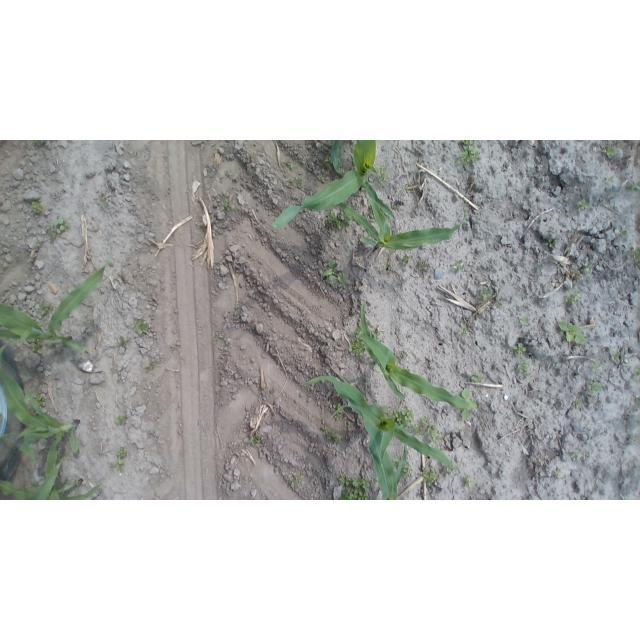Maize: (301, 374, 462, 499), (356, 300, 479, 416), (0, 338, 84, 500), (272, 141, 400, 238), (1, 252, 112, 356), (337, 196, 468, 252), (0, 471, 106, 500), (367, 436, 405, 498), (332, 141, 345, 172)
Weeds: (336, 476, 373, 501), (385, 407, 416, 431), (456, 387, 476, 420), (559, 320, 586, 344), (458, 141, 482, 168), (46, 216, 70, 241), (323, 260, 346, 285), (328, 210, 354, 230), (349, 327, 366, 357), (109, 446, 128, 472), (321, 427, 343, 446), (421, 468, 439, 487), (28, 199, 48, 216), (425, 425, 443, 443), (585, 378, 603, 396), (134, 317, 151, 335), (246, 431, 264, 447), (564, 290, 582, 306), (332, 402, 345, 421), (378, 165, 390, 185), (516, 359, 530, 376), (480, 286, 494, 302), (291, 473, 306, 487), (29, 341, 44, 355), (603, 145, 617, 159), (39, 300, 53, 314), (113, 414, 129, 426), (288, 175, 305, 186), (220, 198, 233, 212), (470, 372, 485, 384), (401, 462, 412, 478), (513, 342, 526, 355), (577, 199, 590, 211), (452, 260, 465, 272), (118, 336, 131, 348), (463, 475, 474, 489), (630, 246, 638, 264), (34, 394, 45, 407), (552, 466, 562, 480), (627, 181, 639, 192), (612, 350, 624, 361), (460, 326, 471, 338), (144, 361, 157, 371), (170, 343, 181, 354), (546, 239, 557, 250), (421, 416, 432, 427), (60, 451, 71, 462), (519, 315, 530, 326), (572, 399, 583, 410), (29, 140, 48, 146), (285, 161, 296, 171), (445, 463, 455, 474), (374, 330, 383, 342), (216, 333, 228, 342), (591, 363, 601, 373), (572, 274, 583, 283), (571, 450, 580, 461), (582, 263, 591, 274), (605, 176, 616, 185), (402, 255, 411, 265), (98, 196, 107, 206), (620, 229, 629, 239), (415, 425, 423, 436), (401, 351, 410, 360), (632, 368, 638, 381), (418, 262, 426, 271), (402, 186, 410, 195), (384, 262, 391, 271), (325, 156, 332, 165), (499, 300, 506, 307), (315, 175, 323, 181), (632, 434, 638, 442), (616, 140, 623, 144)
